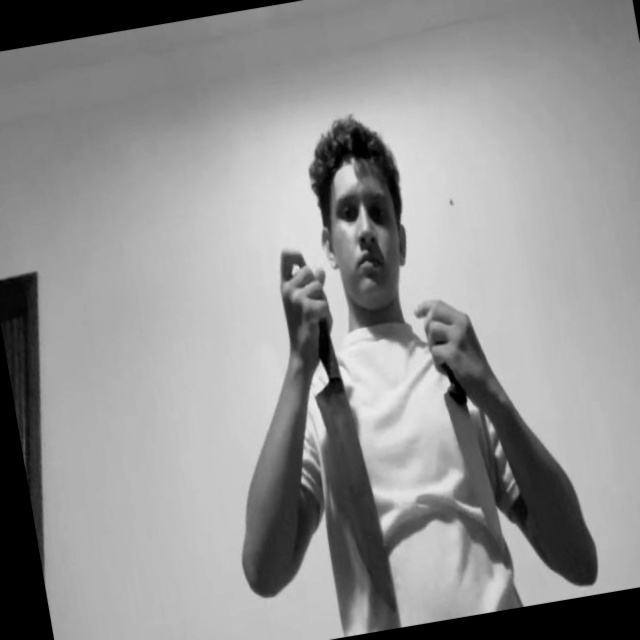Sharp-Object: (312, 377, 397, 617), (442, 383, 504, 546)
